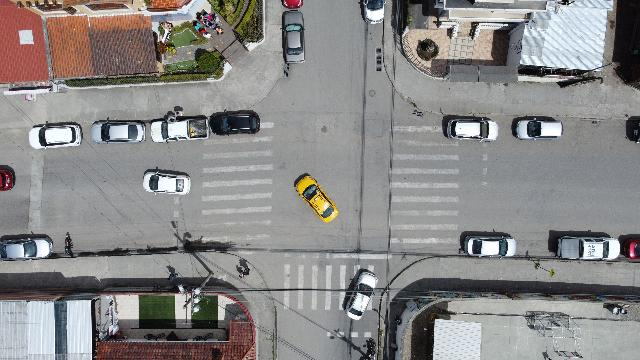Vehiculo: (294, 174, 338, 222), (342, 268, 378, 320), (150, 116, 210, 142), (556, 236, 620, 260), (29, 121, 82, 149), (459, 231, 516, 257), (442, 115, 498, 141), (90, 118, 146, 144), (1, 234, 54, 260), (143, 167, 191, 195), (210, 110, 260, 136), (281, 10, 305, 63), (512, 116, 562, 140), (359, 1, 386, 23), (618, 234, 640, 258), (1, 165, 16, 191), (626, 116, 640, 142), (282, 0, 302, 8)
